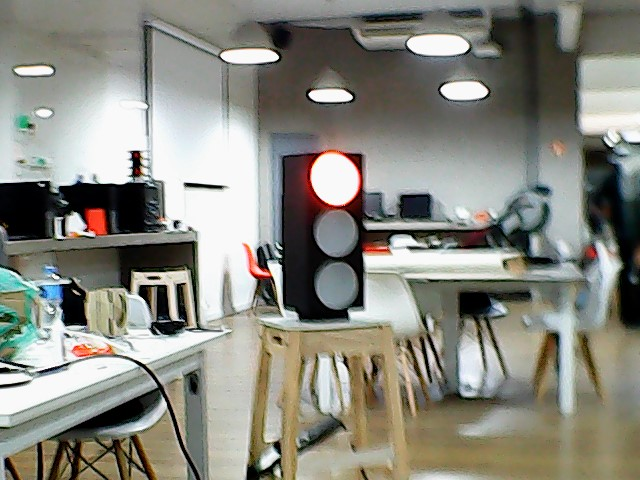vermelho: (281, 151, 368, 315)
